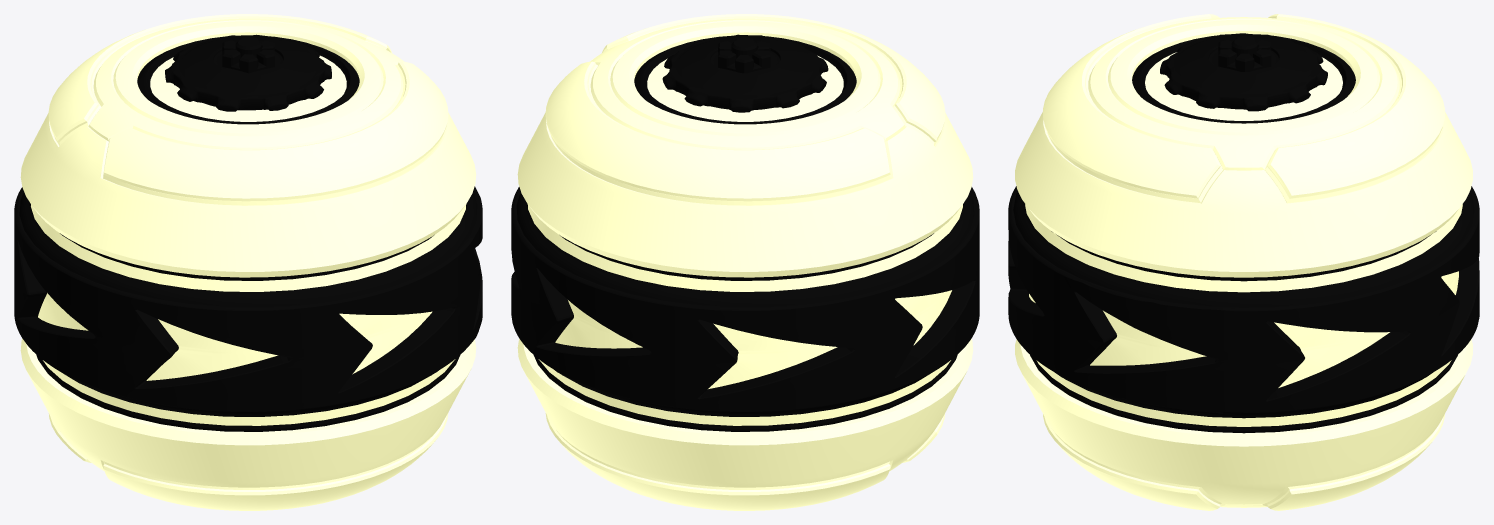
File: Ball.fbx
The picture shows the model from 3 angles, left to right: view 1: azimuth 30°, elevation 25°; view 2: azimuth 150°, elevation 25°; view 3: azimuth 270°, elevation 25°; orthographic projection.
Visible parts, largest first — view 1: Shell1, Body1, light; view 2: Shell1, Body1, light; view 3: Shell1, Body1, light.
Boxes of the visible parts, x1,y1,x2,y2 form: Shell1: (20,14,476,510); Body1: (14,34,482,431); light: (31,55,466,425); Shell1: (517,14,973,510); Body1: (511,34,979,431); light: (527,55,962,425); Shell1: (1015,14,1472,510); Body1: (1008,33,1479,433); light: (1025,52,1462,426).
Size of the model in its own units: 16.6 by 17.2 by 16.6.
